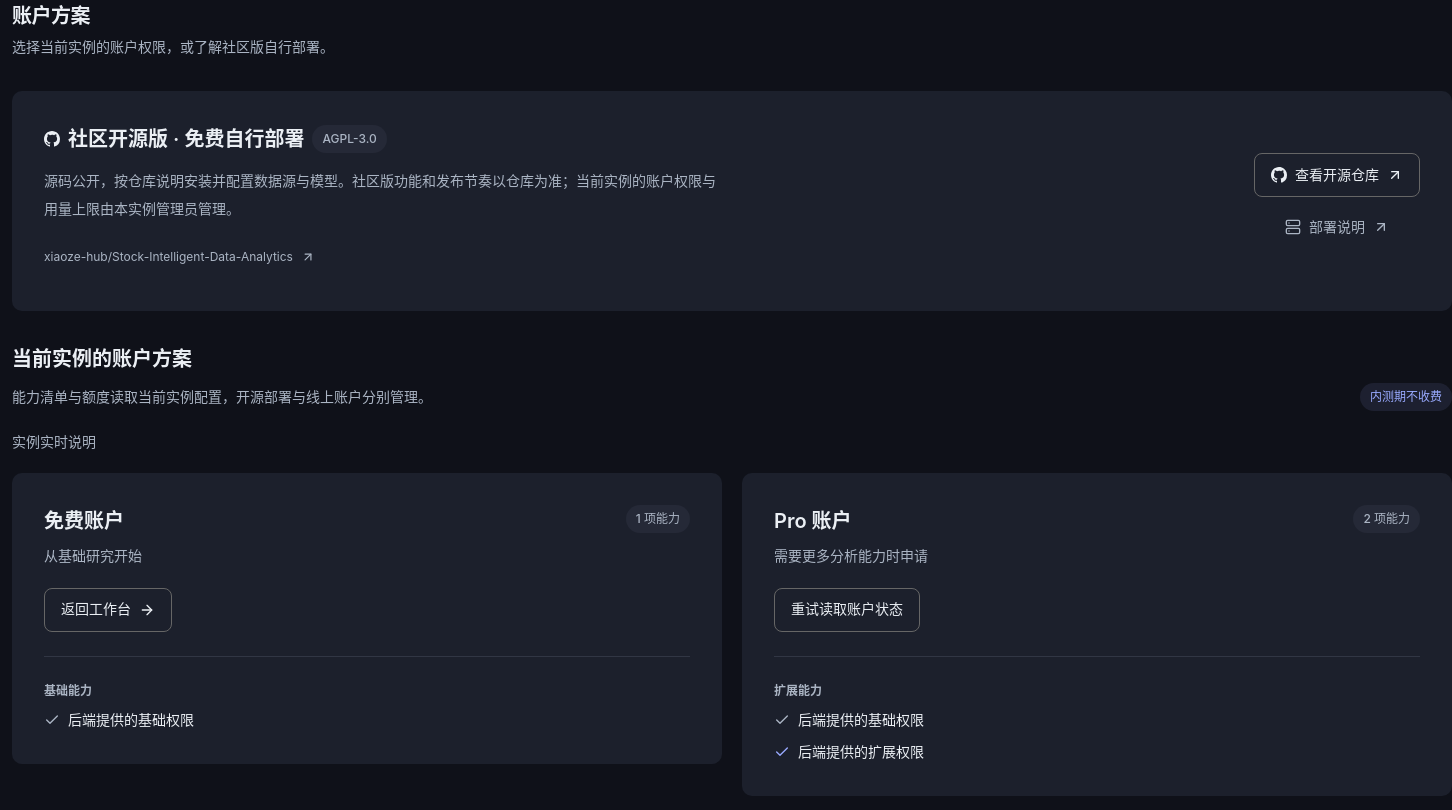
公开账户方案 › 账户状态读取失败时先重试，不把未知账户当作可申请
Expected: the button "申请 Pro" is not shown
Click the button "重试读取账户状态". click: click(847, 610)
box: [774,588,920,632]
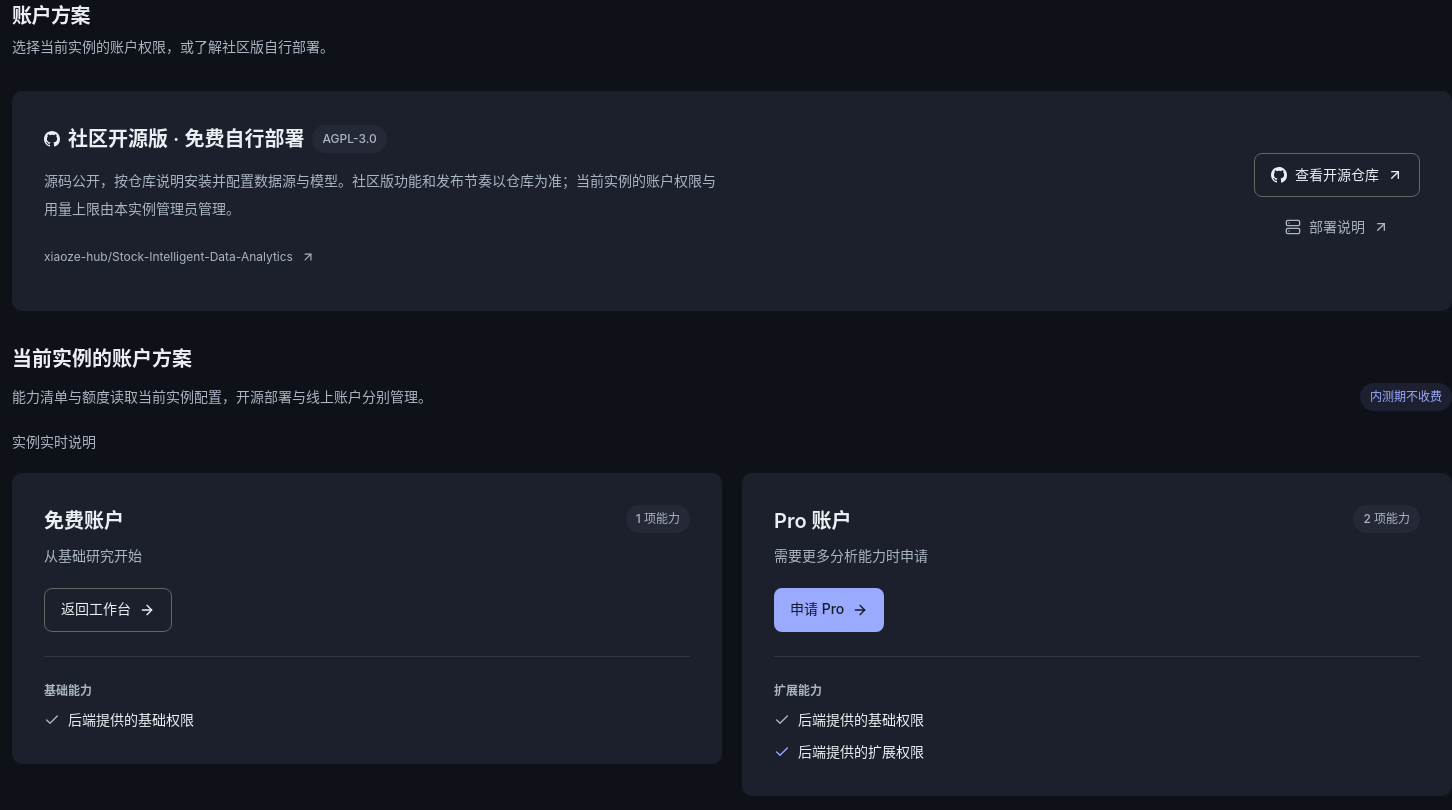
Now the button "申请 Pro" is shown, box [774,588,884,632]
